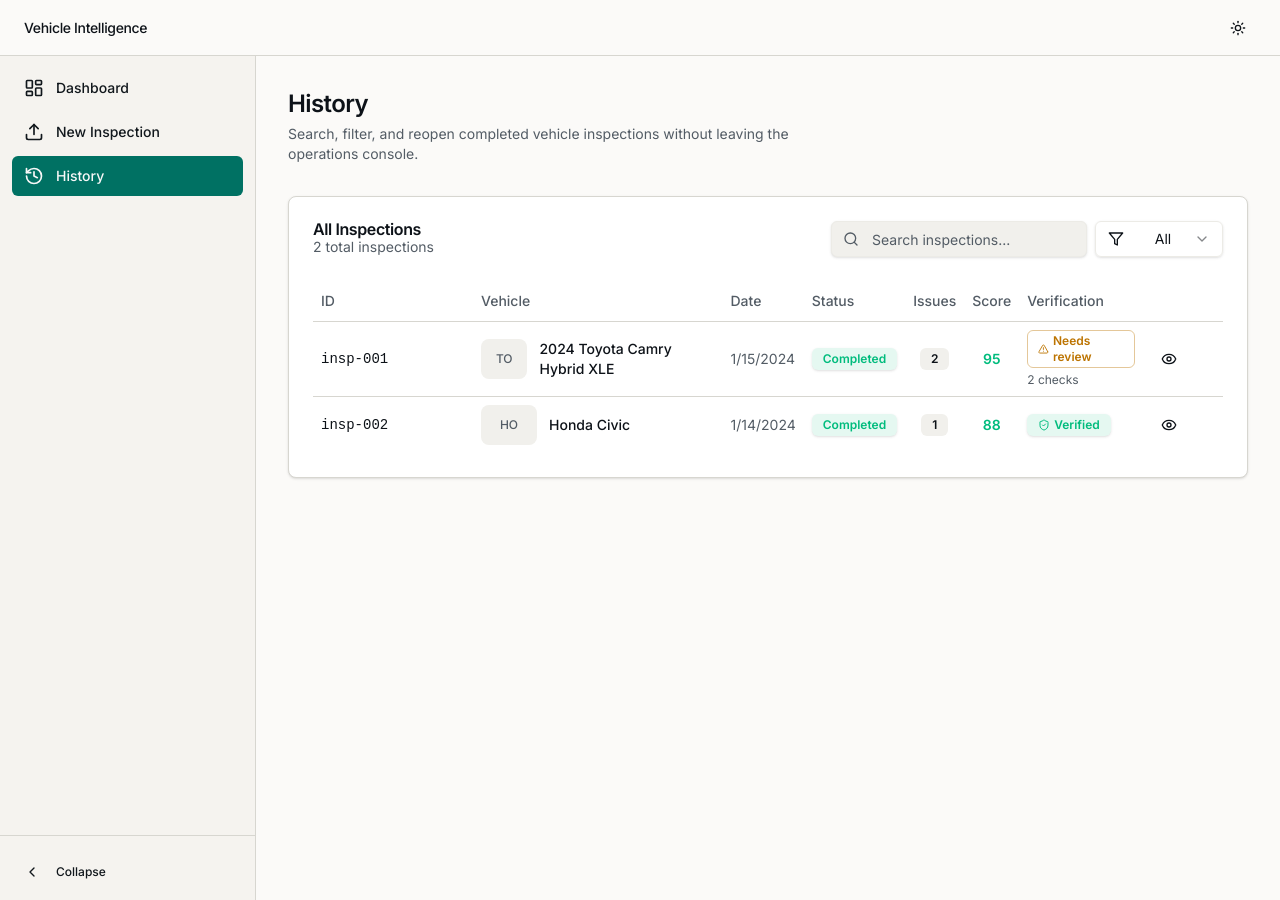
HistoryPage › filters by search query
Check: the text "2024 Toyota Camry Hybrid XLE" is shown, box [540,340,672,376]
Type "Honda" into the field with placeholder "Search inspections..." at (959, 239), box [831,221,1087,257]
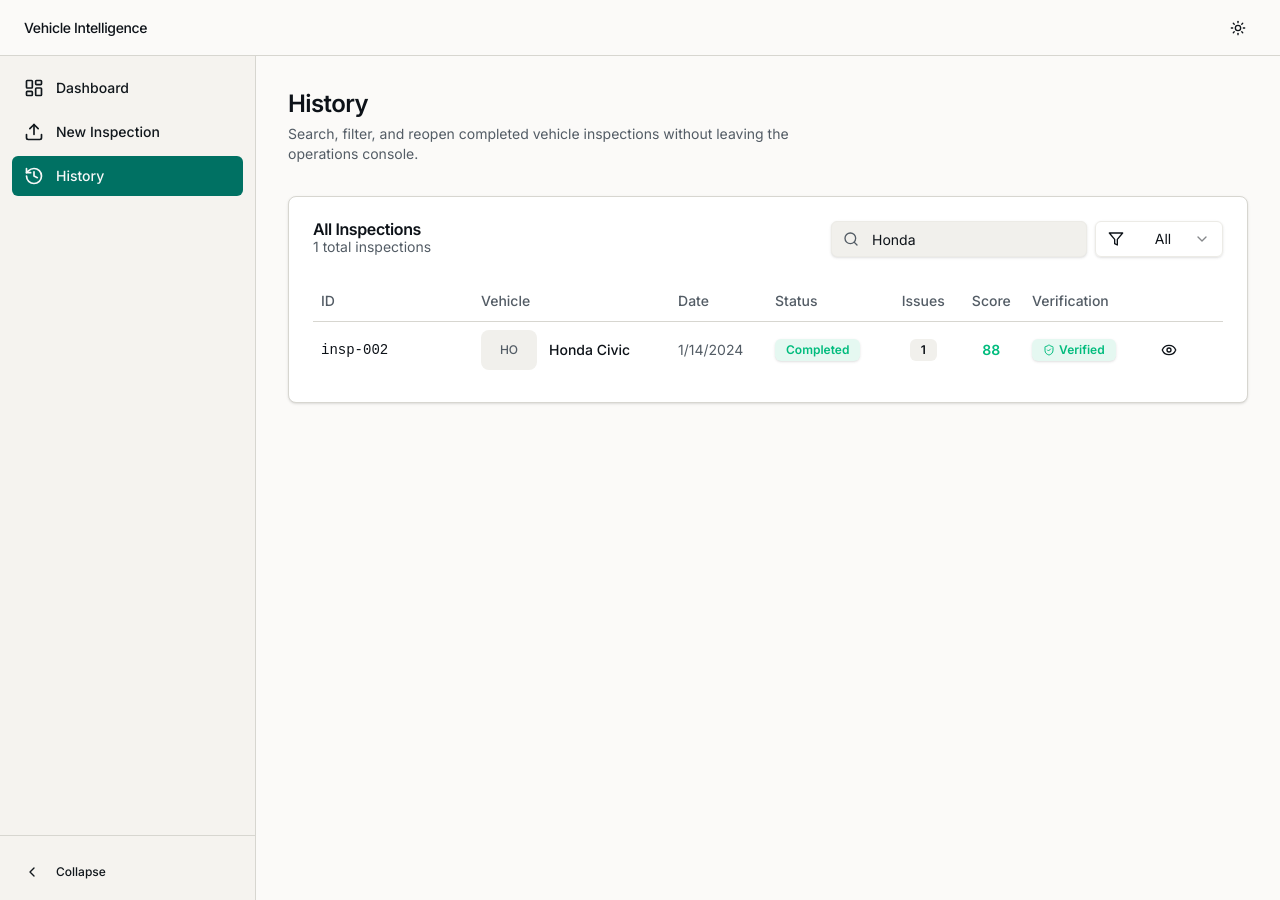
Check: the text "Honda Civic" is shown, box [549,340,630,360]
Check: the text "Toyota Camry" is gone
